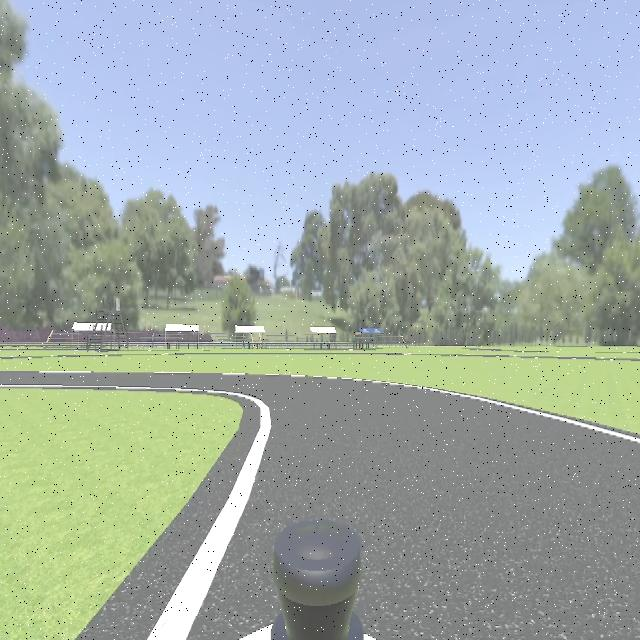road: (0, 371, 640, 640)
solid_line: (146, 393, 272, 640), (421, 387, 640, 446)
